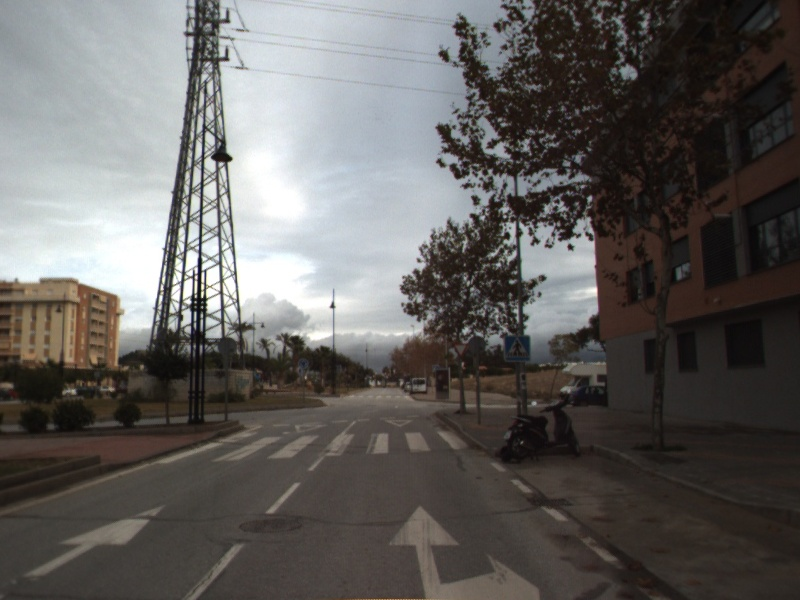STRAIGHT: (21, 502, 169, 582)
STRAIGHT_RIGHT: (386, 503, 542, 600)
